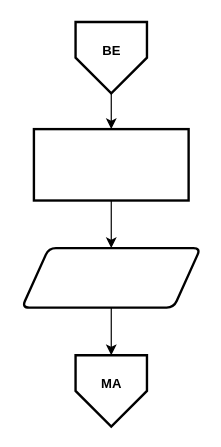
Image size: 221x447. Some labels were removed from this diagram. The shapes that lost their labels are listed below. From the top down, each one's centre as x and y in pixels, then its label:
the point at 110,164: Hitung jumlah data crawling, preprocessing, labeling , latih dan uji
the point at 110,277: Tampilkan halaman beranda
